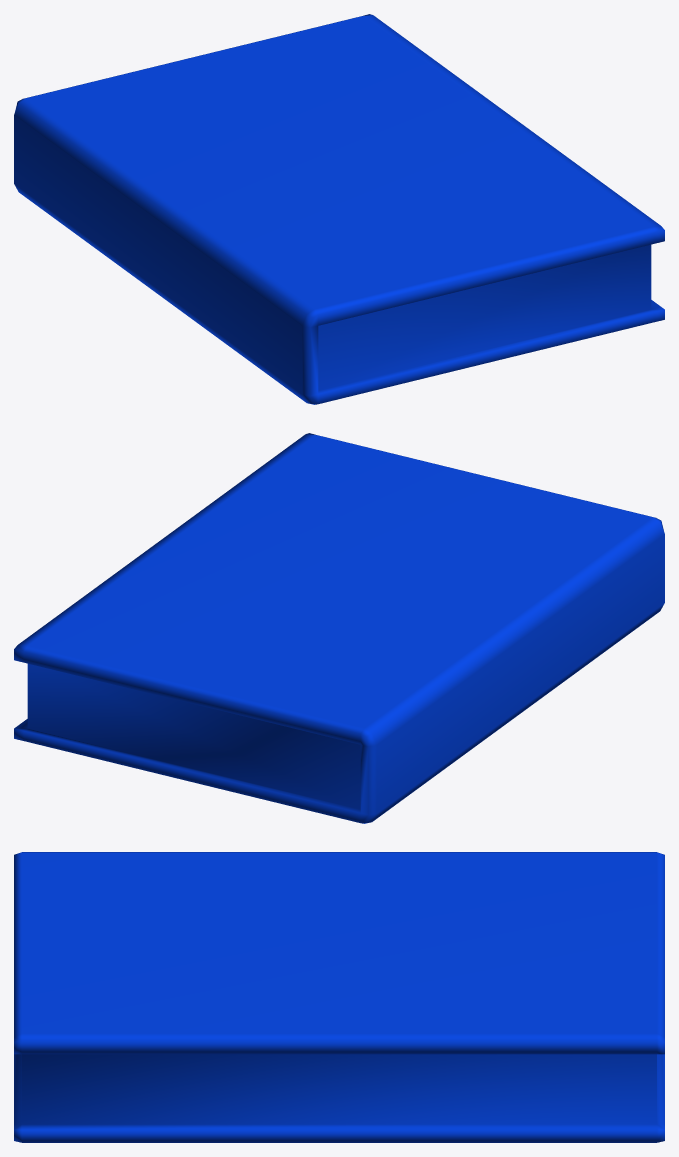
File: Book_02.fbx
3 renders of one model, top to bottom at view 1: azimuth 30°, elevation 25°; view 2: azimuth 150°, elevation 25°; view 3: azimuth 270°, elevation 25°, orthographic. The views are drawn at different scales.
Visible parts, largest first — view 1: Book_02; view 2: Book_02; view 3: Book_02.
Boxes of the visible parts, <box> form: Book_02: <box>14,14,664,404</box>; Book_02: <box>14,433,664,823</box>; Book_02: <box>14,852,664,1142</box>.
Bounding box in the file's own units: 22.37 × 5.7 × 31.85.
